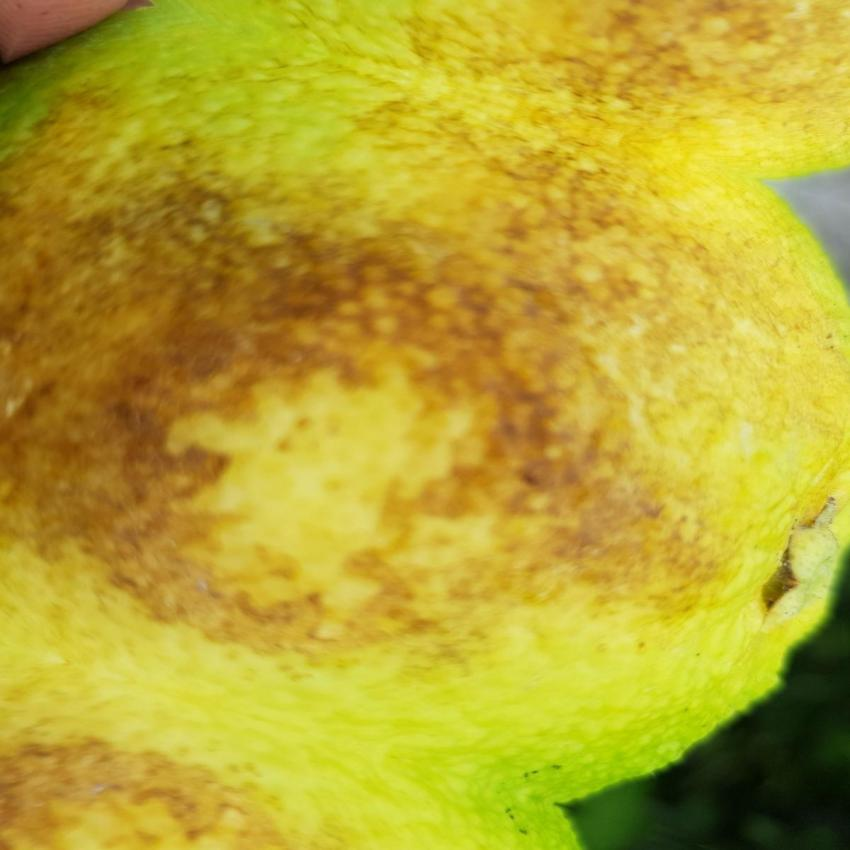Mal estado: (0, 0, 849, 816)
